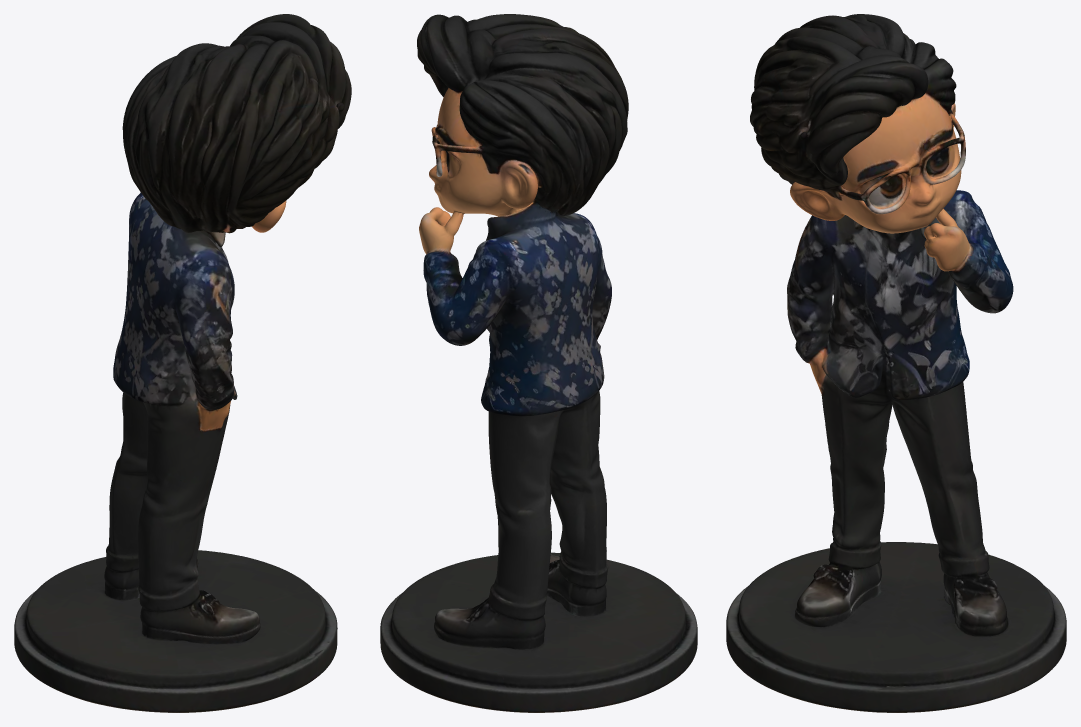
The model's file is about.glb.
3 renders of one model, left to right at view 1: azimuth 30°, elevation 25°; view 2: azimuth 150°, elevation 25°; view 3: azimuth 270°, elevation 25°, orthographic. The views are drawn at different scales.
Parts seen in each view (by area): view 1: tripo_node_157e4cee-be31-4db0-96f1-abc03c4620b6; view 2: tripo_node_157e4cee-be31-4db0-96f1-abc03c4620b6; view 3: tripo_node_157e4cee-be31-4db0-96f1-abc03c4620b6.
Boxes of the visible parts, <box> form: tripo_node_157e4cee-be31-4db0-96f1-abc03c4620b6: <box>14,14,351,712</box>; tripo_node_157e4cee-be31-4db0-96f1-abc03c4620b6: <box>380,14,697,712</box>; tripo_node_157e4cee-be31-4db0-96f1-abc03c4620b6: <box>726,14,1066,712</box>.
Bounding box in the file's own units: 0.4891 × 1 × 0.4823.
Materials: 1 (1 with a texture image).
